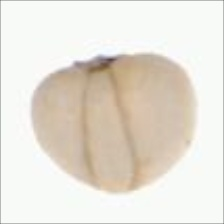L5: (79, 68, 140, 193), (74, 168, 158, 195), (69, 54, 137, 76)
L6: (28, 51, 200, 196)
